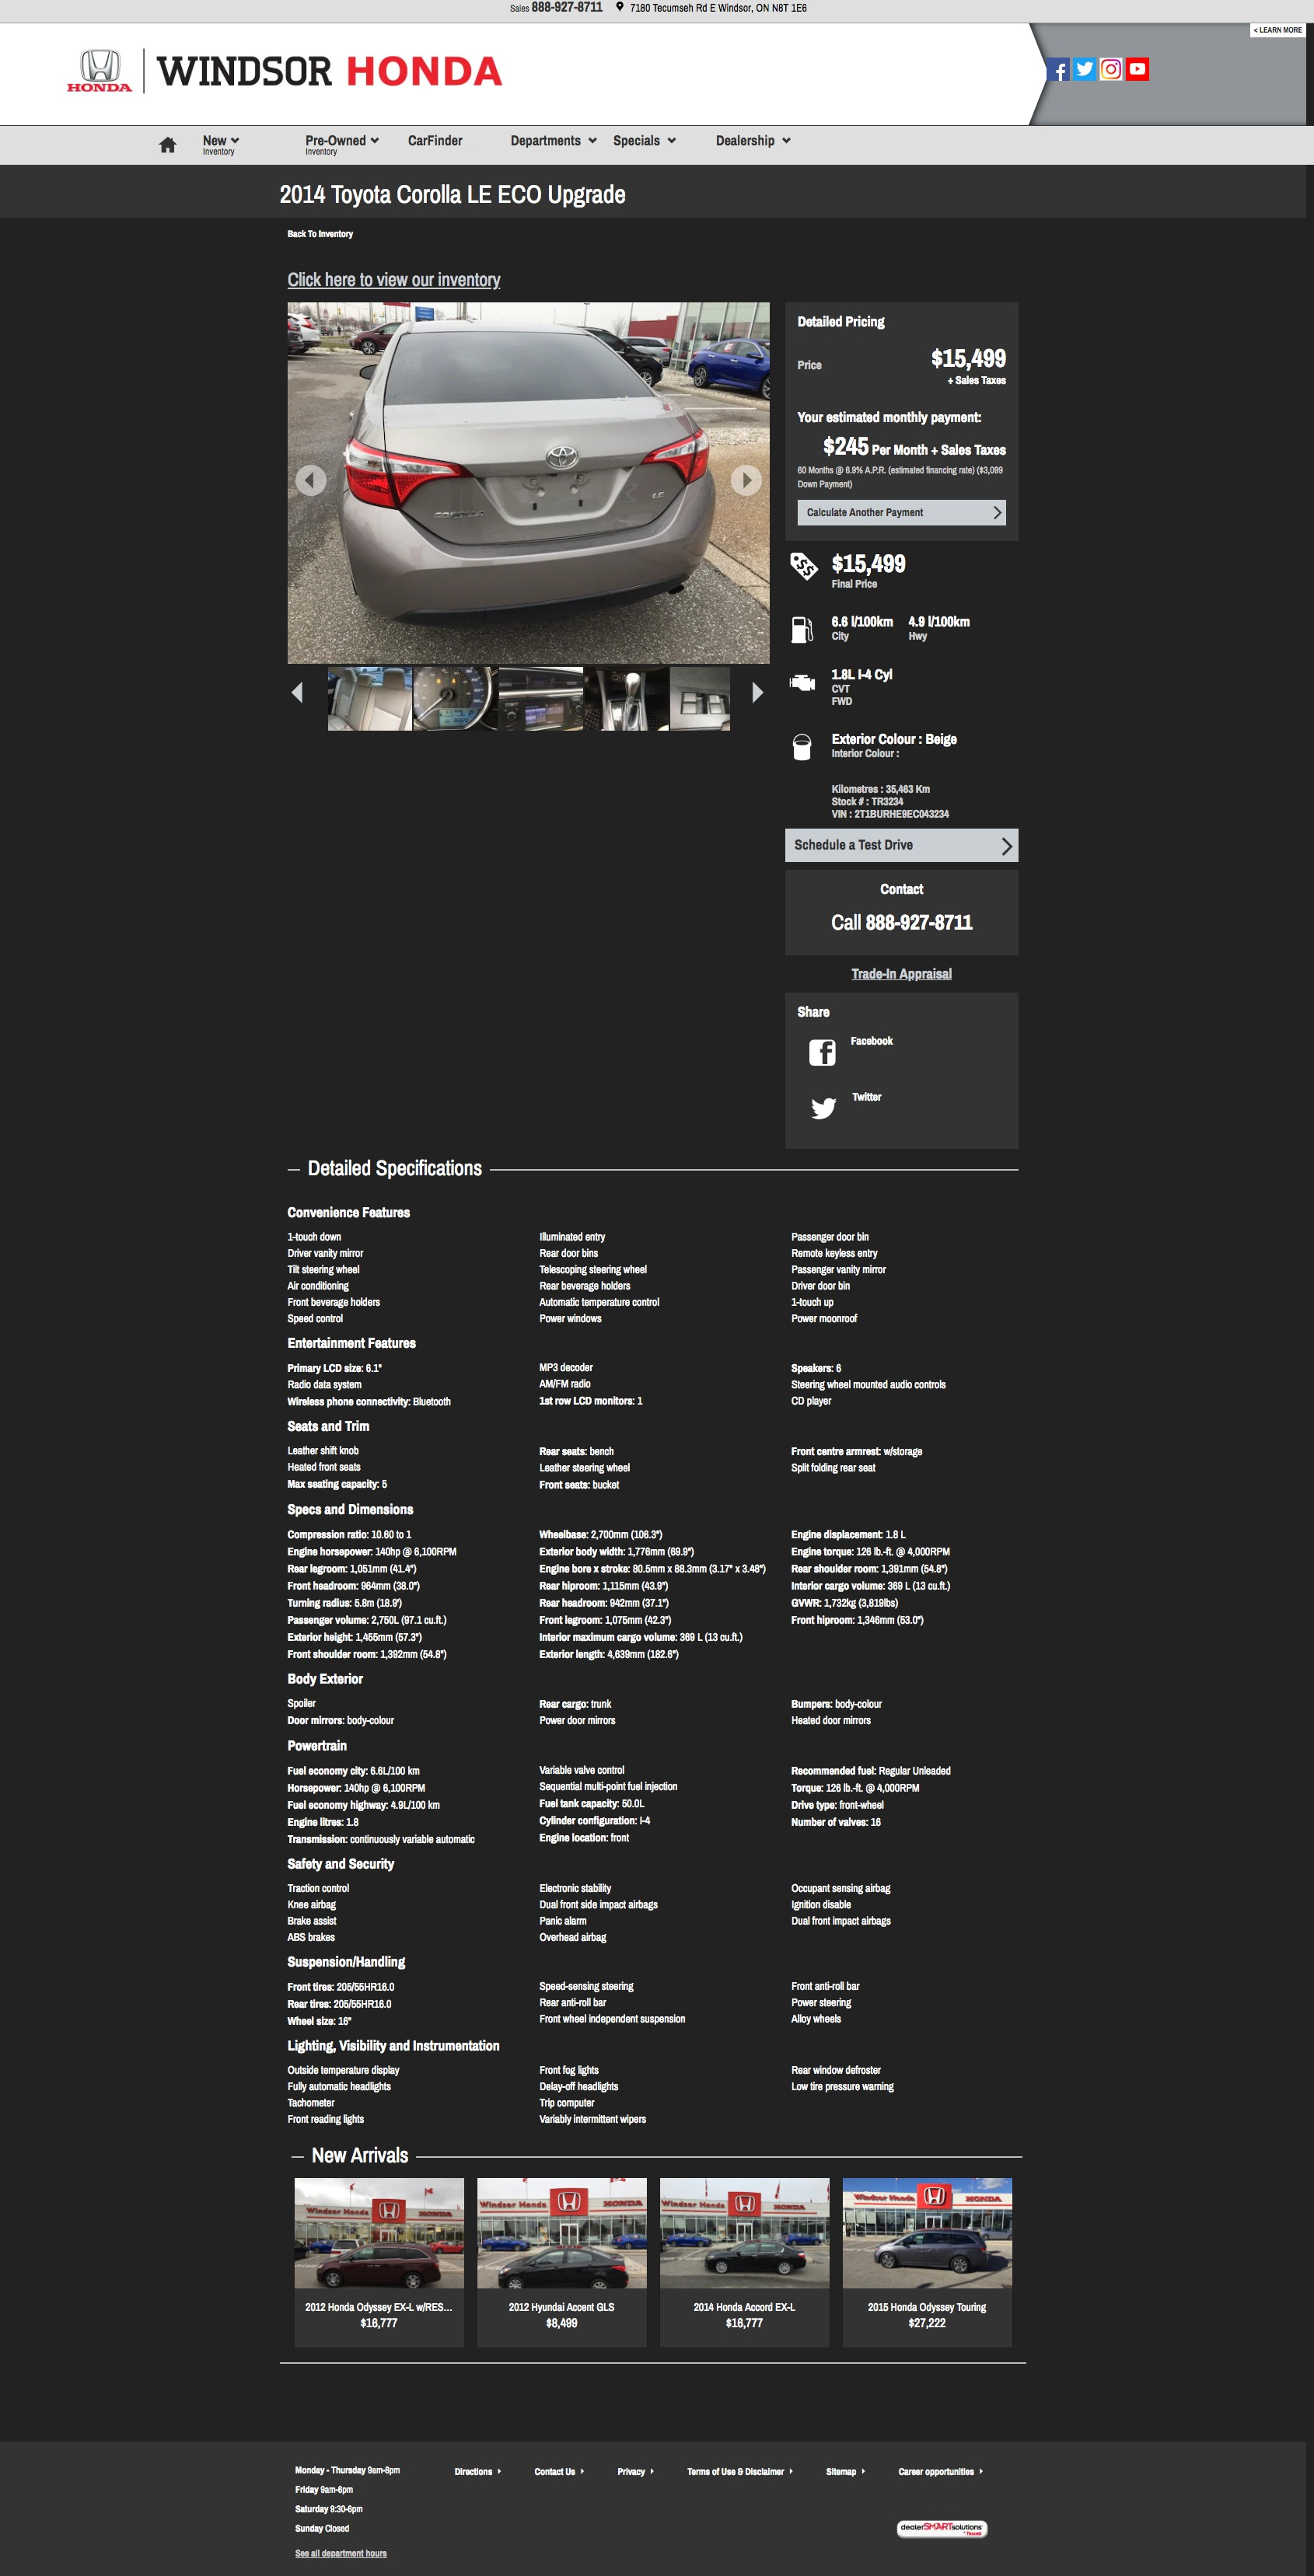car: (753, 682, 764, 703)
